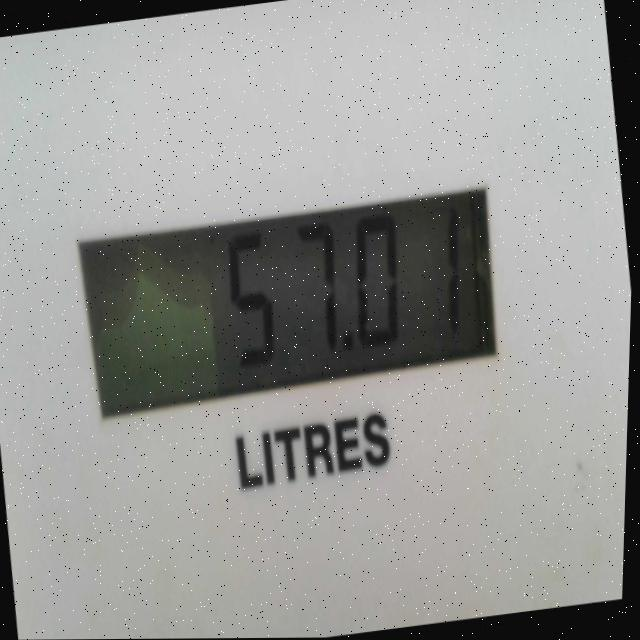.: (335, 316, 371, 383)
0: (342, 205, 419, 360)
1: (425, 199, 480, 345)
5: (211, 214, 301, 380)
7: (287, 219, 355, 366)
